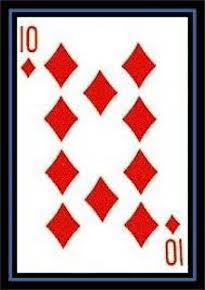TenOfDiamonds: (15, 16, 190, 275)
